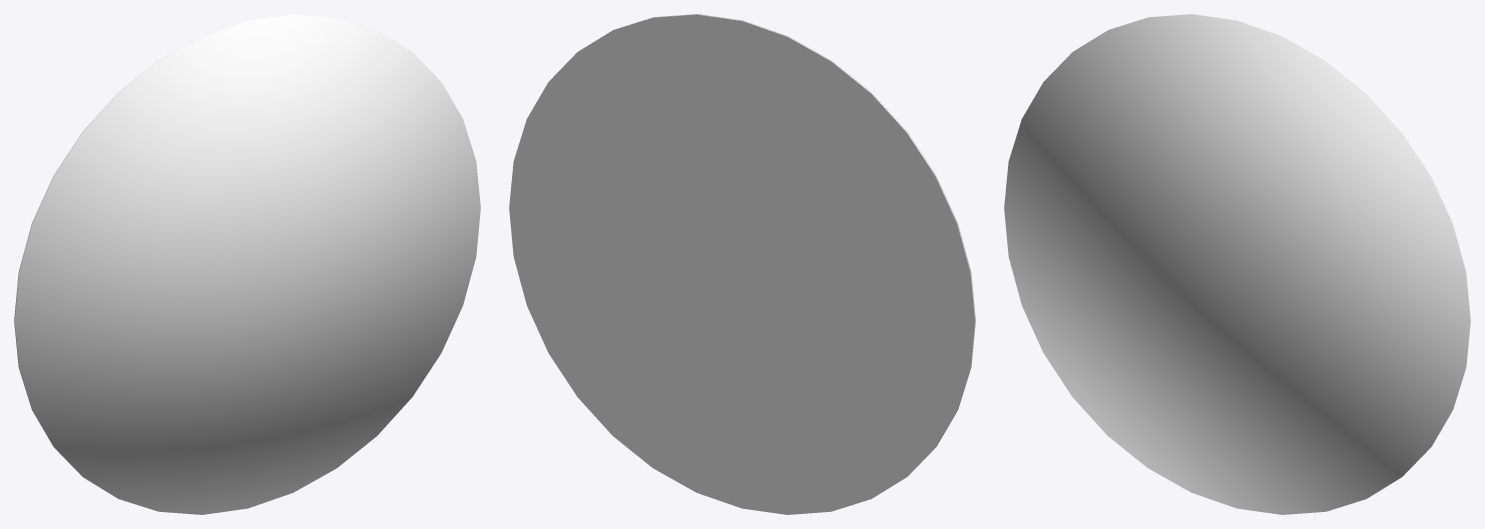
File: Disk.fbx
3 renders of one model, left to right at view 1: azimuth 30°, elevation 25°; view 2: azimuth 150°, elevation 25°; view 3: azimuth 330°, elevation 25°, orthographic.
Parts seen in each view (by area): view 1: Circle; view 2: Circle; view 3: Circle.
Part boxes in pixels (x1,y1,x2,y2): Circle: [14, 14, 480, 514]; Circle: [509, 14, 975, 514]; Circle: [1004, 14, 1470, 514].
Size of the model in its own units: 2 by 2 by 0.00611.
1 material, 1 textured.
